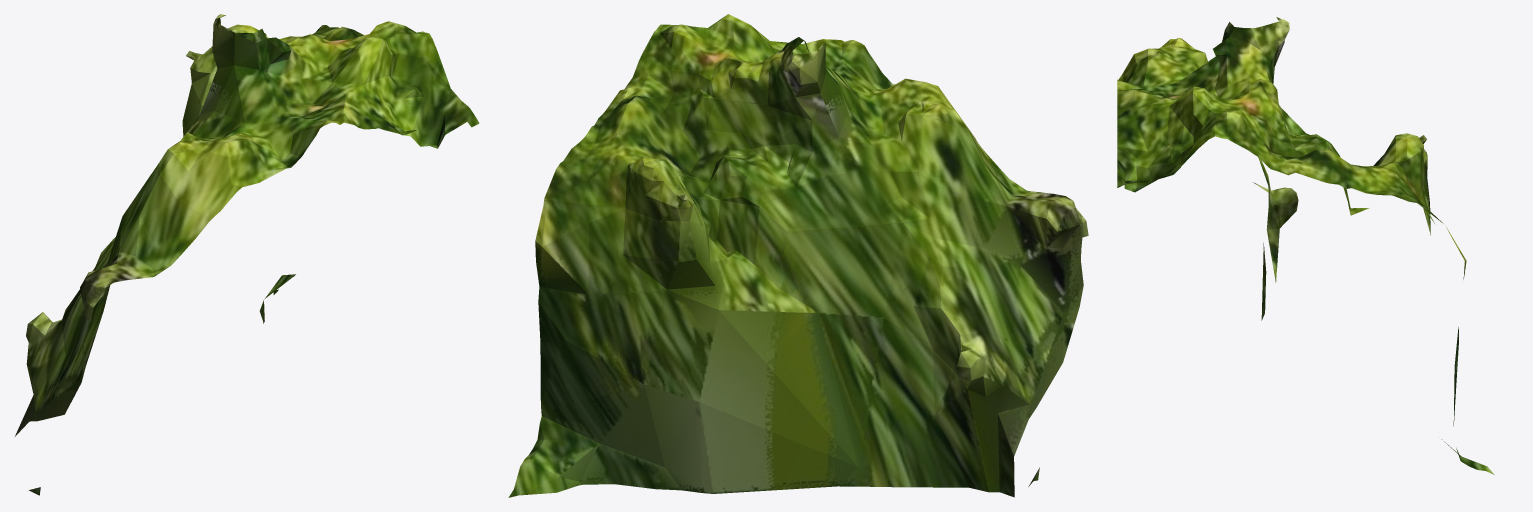
3 renders of one model, left to right at view 1: azimuth 30°, elevation 25°; view 2: azimuth 150°, elevation 25°; view 3: azimuth 270°, elevation 25°, orthographic. The views are drawn at different scales.
Bounding box in the file's own units: 1.67 × 1.67 × 1.54.
Materials: 4 (4 with a texture image).
